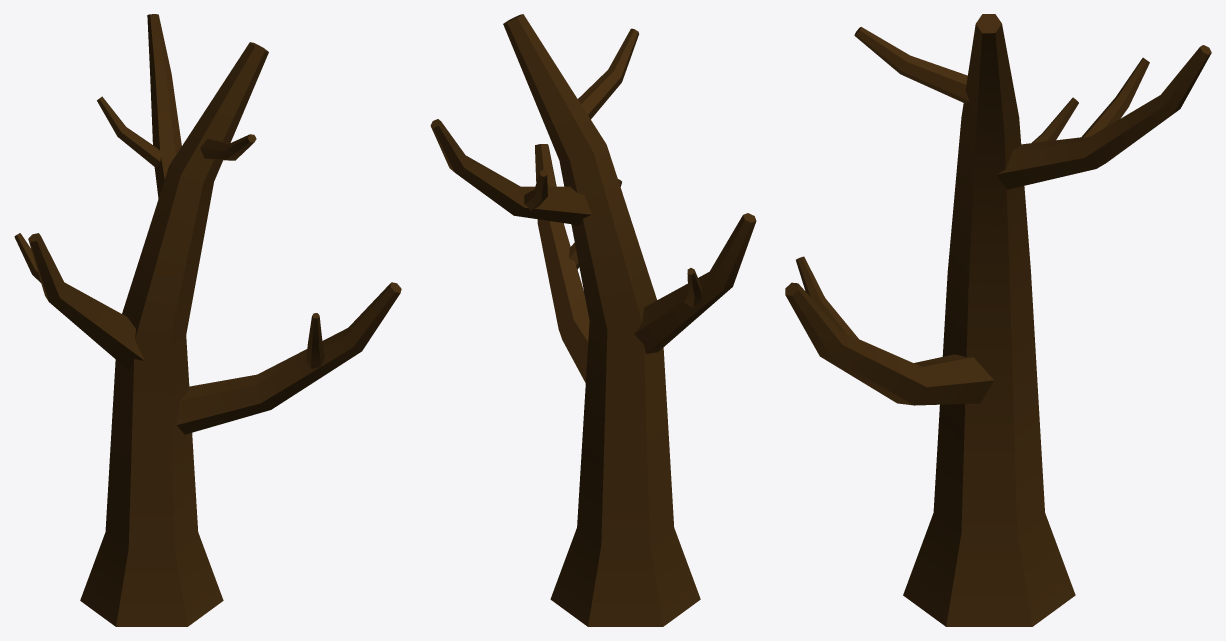
Rendered from arbol2.fbx.
3 views of the same model, side by side, from view 1: azimuth 30°, elevation 25°; view 2: azimuth 150°, elevation 25°; view 3: azimuth 270°, elevation 25° (orthographic). The views are drawn at different scales.
Parts seen in each view (by area): view 1: tree_01_Circle; view 2: tree_01_Circle; view 3: tree_01_Circle.
Part boxes in pixels (x1,y1,x2,y2): tree_01_Circle: (14, 14, 401, 626); tree_01_Circle: (430, 14, 756, 626); tree_01_Circle: (785, 14, 1211, 626).
Size of the model in its own units: 372 by 650 by 392.
